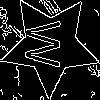W: (25, 20, 69, 68)
